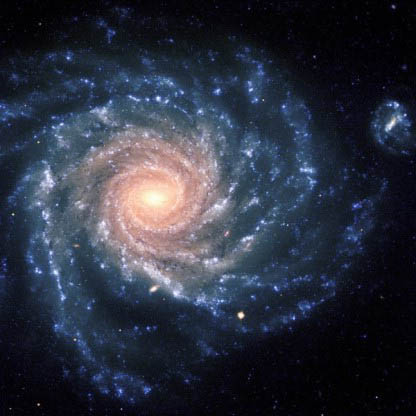NGC 1232: (9, 25, 408, 399)
